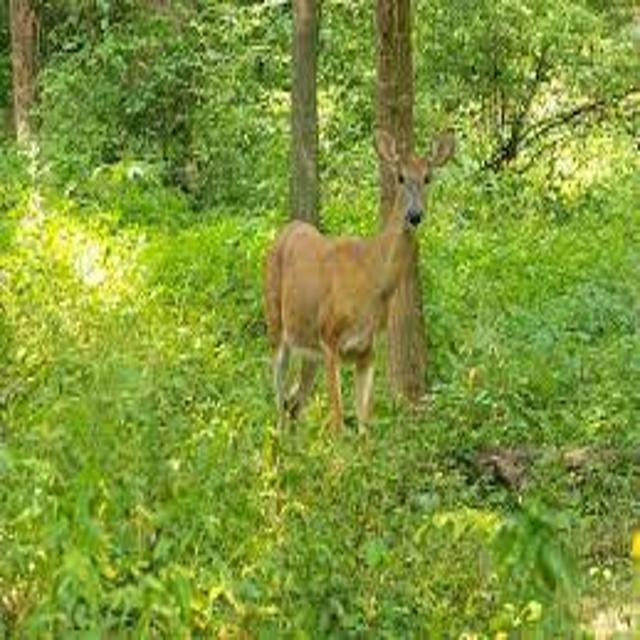deer: (236, 98, 479, 476)
